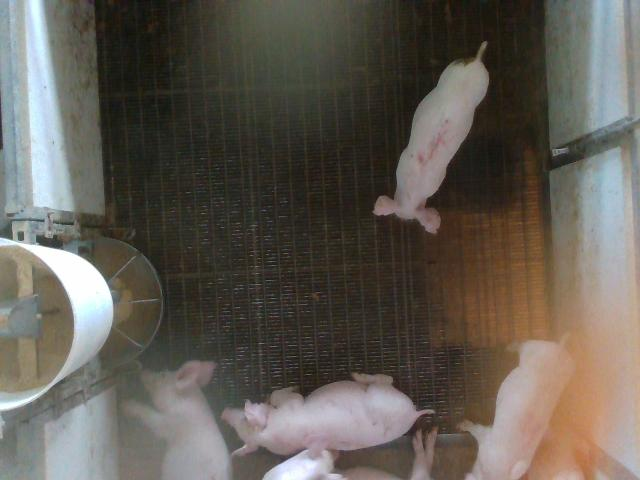pig-4: (460, 340, 574, 479)
pig-5: (374, 41, 489, 233)
